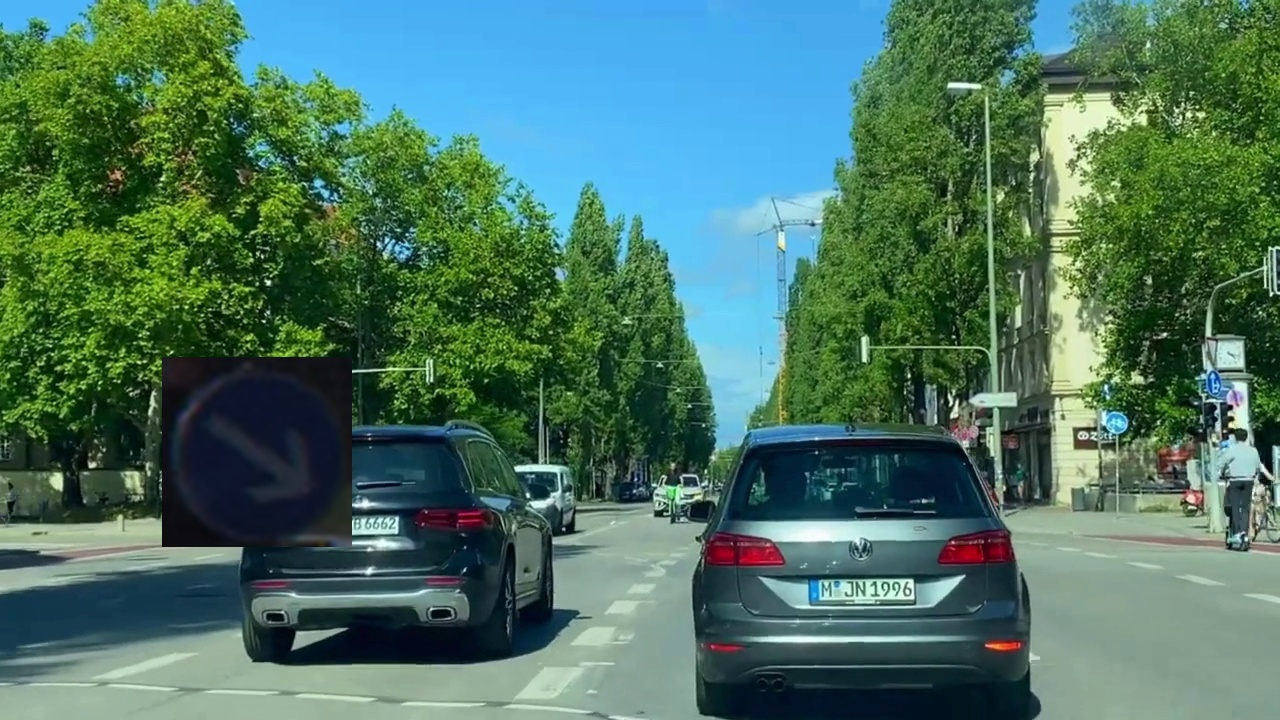Keep right: (162, 357, 352, 547)
